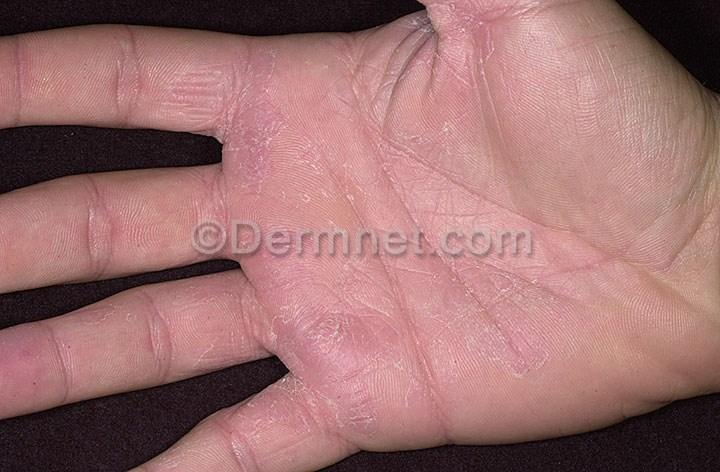Eczema: (420, 185, 596, 378), (264, 266, 413, 438), (248, 131, 414, 268), (431, 0, 565, 96), (182, 39, 289, 153), (589, 144, 592, 145)
